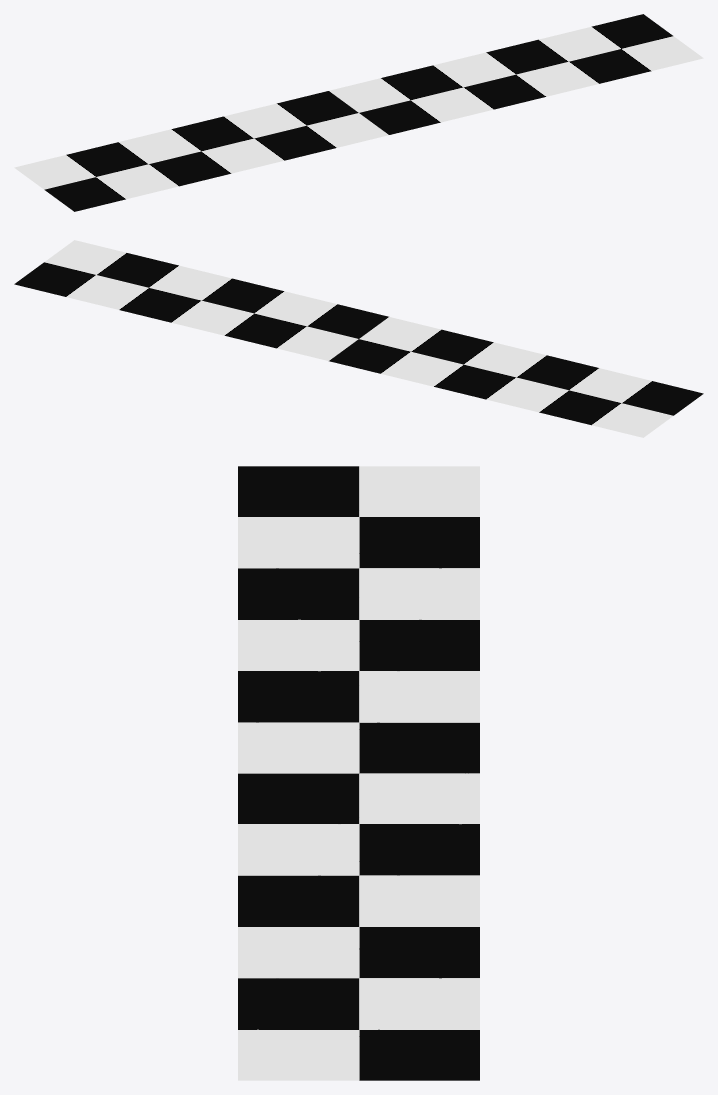
The model's file is qipaoxian.FBX.
The picture shows the model from 3 angles, top to bottom: view 1: azimuth 30°, elevation 25°; view 2: azimuth 150°, elevation 25°; view 3: azimuth 270°, elevation 25°; orthographic projection. The views are drawn at different scales.
Parts seen in each view (by area): view 1: qipaoxian; view 2: qipaoxian; view 3: qipaoxian.
Part boxes in pixels (x1,y1,x2,y2): qipaoxian: (14,14,703,211); qipaoxian: (14,240,703,437); qipaoxian: (238,466,479,1080).
Size of the model in its own units: 1000 by 2.72e-05 by 167.
